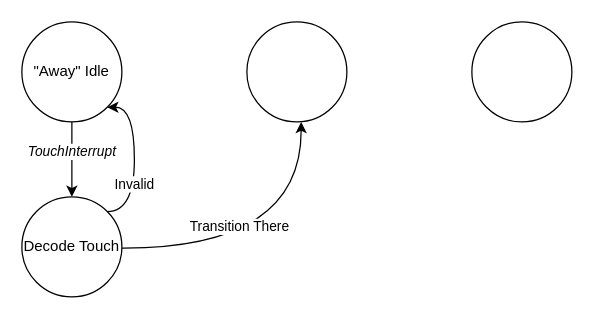
This 594x319 diagram has some shape labels left out. The centre of each missing label's shape, as x and y in pixels:
"Manual" Idle: the point at 521,71
"There" Idle: the point at 296,71
